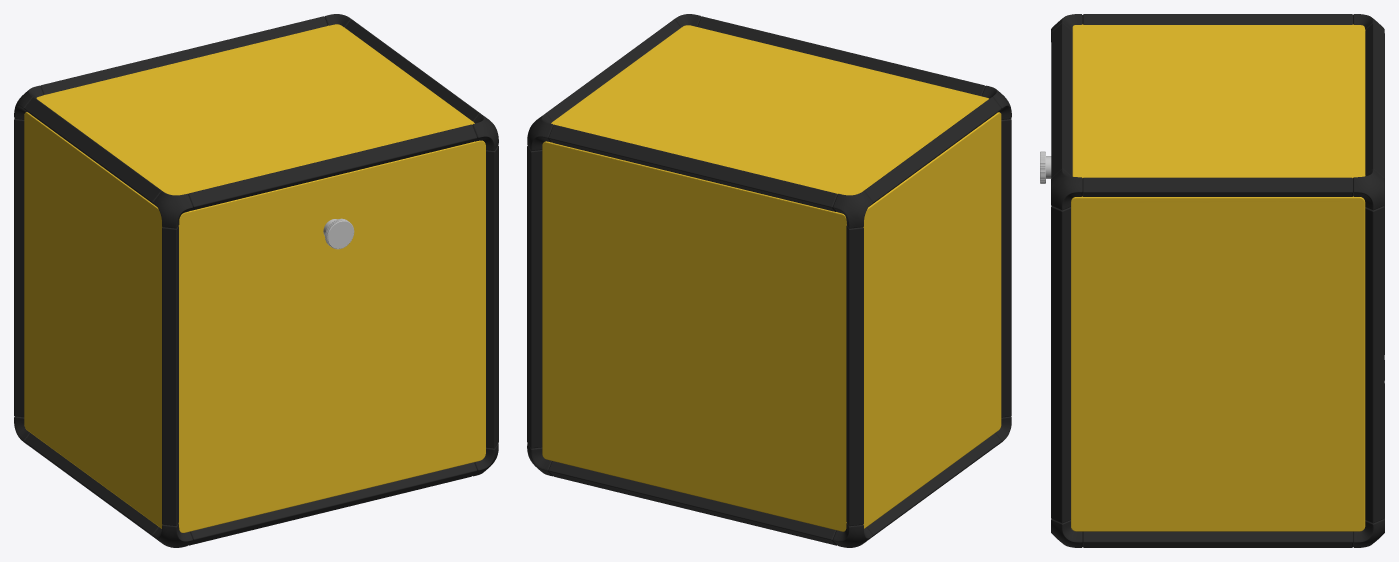
The picture shows the model from 3 angles, left to right: view 1: azimuth 30°, elevation 25°; view 2: azimuth 150°, elevation 25°; view 3: azimuth 270°, elevation 25°; orthographic projection. The views are drawn at different scales.
Parts seen in each view (by area): view 1: 420x329x420; view 2: 420x329x420; view 3: 420x329x420.
Boxes of the visible parts, bbox=[...] form: 420x329x420: bbox=[14, 14, 498, 547]; 420x329x420: bbox=[527, 14, 1011, 547]; 420x329x420: bbox=[1040, 14, 1384, 547].
Bounding box in the file's own units: 0.4977 × 0.4976 × 0.4196.
